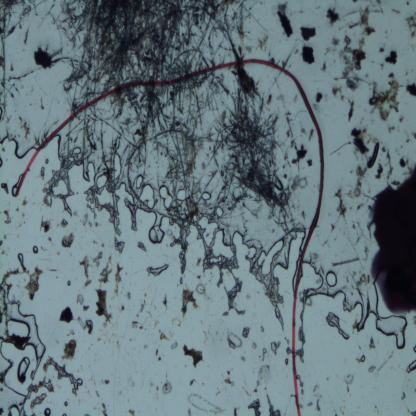Air bubble: (0, 275, 45, 360), (0, 349, 24, 414), (373, 312, 408, 353), (0, 131, 34, 162), (256, 238, 285, 274), (210, 229, 235, 260), (300, 262, 324, 293), (198, 215, 218, 247), (149, 214, 166, 245), (138, 182, 156, 211), (146, 264, 170, 279), (158, 185, 173, 209), (17, 356, 29, 381), (325, 270, 338, 289), (113, 154, 121, 178), (95, 174, 108, 188), (176, 188, 188, 202), (405, 360, 416, 374), (202, 190, 212, 202), (15, 252, 23, 266), (31, 243, 40, 254), (136, 174, 142, 188), (216, 206, 223, 217), (43, 407, 52, 415)
Background material: (90, 80, 233, 222), (208, 65, 297, 232), (60, 0, 253, 58), (64, 51, 204, 107), (40, 135, 89, 216), (201, 258, 247, 320), (84, 189, 122, 233), (168, 215, 195, 276), (258, 273, 286, 331), (368, 73, 400, 123), (337, 35, 366, 88), (0, 0, 37, 40), (43, 358, 84, 390), (0, 41, 13, 126), (350, 3, 378, 37), (188, 392, 226, 415), (299, 287, 310, 364), (34, 43, 64, 71), (94, 288, 112, 330), (347, 165, 368, 199), (325, 312, 350, 340), (276, 1, 294, 38), (181, 341, 203, 370), (252, 363, 272, 393), (332, 187, 349, 221), (25, 267, 41, 302), (182, 285, 200, 316), (25, 378, 55, 396), (352, 127, 370, 155), (79, 256, 94, 287), (290, 142, 309, 166), (99, 255, 112, 289), (300, 42, 316, 68), (366, 139, 380, 168), (56, 301, 74, 323), (265, 391, 281, 415), (224, 326, 241, 348), (113, 262, 124, 296), (29, 392, 48, 410), (324, 4, 340, 25), (329, 141, 353, 155), (76, 316, 93, 335), (297, 24, 317, 40), (405, 13, 416, 42), (37, 214, 52, 235), (63, 336, 76, 360), (385, 147, 394, 181), (17, 116, 30, 139), (282, 50, 298, 68), (249, 396, 263, 416), (256, 32, 270, 52), (330, 257, 361, 266), (136, 294, 148, 317), (351, 222, 366, 240), (330, 83, 344, 102), (291, 174, 307, 190), (61, 233, 74, 252), (384, 50, 399, 66), (112, 235, 126, 252), (195, 280, 207, 299), (224, 368, 236, 387), (358, 271, 373, 286), (0, 207, 13, 224), (402, 129, 416, 144), (374, 160, 384, 180), (297, 374, 306, 396), (342, 372, 355, 385), (405, 81, 416, 96), (259, 345, 268, 363), (272, 337, 280, 357), (131, 320, 144, 332), (308, 252, 321, 264), (162, 380, 173, 394), (0, 181, 10, 196), (328, 222, 337, 238), (94, 251, 102, 269), (161, 292, 168, 312), (398, 156, 408, 170), (362, 244, 370, 261), (241, 324, 250, 339), (171, 316, 183, 327), (348, 100, 354, 122), (314, 90, 323, 104), (386, 122, 396, 134), (159, 331, 171, 341), (315, 398, 323, 412), (368, 336, 376, 350), (304, 157, 314, 168), (331, 34, 340, 46), (155, 348, 162, 363), (320, 60, 328, 73), (100, 402, 108, 415), (24, 29, 30, 46), (367, 364, 377, 374), (138, 242, 147, 253), (233, 404, 242, 415), (60, 217, 68, 229), (284, 345, 291, 358), (39, 166, 46, 179), (100, 377, 110, 386), (391, 178, 401, 187), (76, 293, 84, 304), (398, 110, 404, 124), (378, 45, 386, 55), (284, 356, 290, 368), (308, 128, 314, 140), (359, 354, 366, 364), (82, 304, 90, 312), (170, 342, 178, 350), (356, 203, 364, 211), (189, 378, 196, 387), (21, 197, 28, 206), (128, 408, 135, 416), (401, 390, 406, 401), (381, 145, 387, 154), (127, 290, 132, 300), (252, 342, 258, 350), (66, 280, 71, 288), (260, 326, 265, 334), (0, 236, 3, 248)
Microfibre: (14, 58, 324, 414)
Pen: (371, 160, 416, 314)
